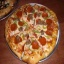pepperoni: (45, 17, 55, 36), (31, 39, 48, 49), (15, 10, 26, 18), (15, 35, 22, 45), (11, 21, 17, 31)
pizza: (9, 5, 59, 57)
